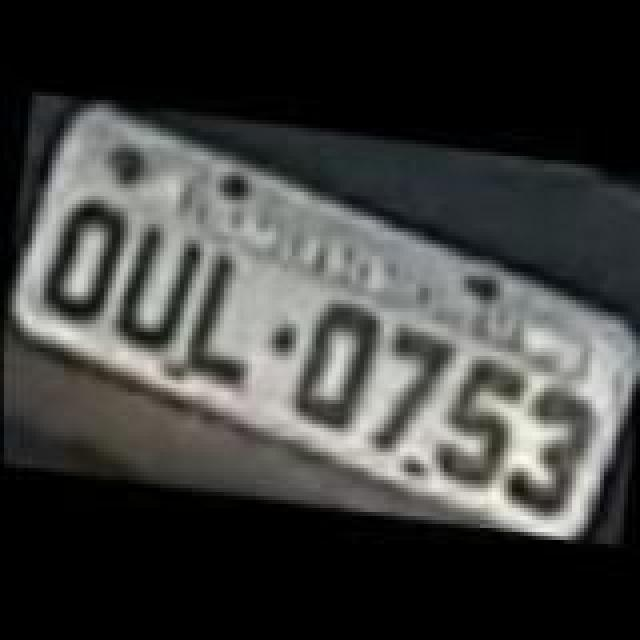3: (500, 372, 600, 516)
5: (426, 344, 522, 496)
7: (366, 320, 450, 468)
L: (174, 242, 262, 386)
O: (38, 184, 130, 328), (290, 290, 382, 434)
U: (108, 212, 204, 352)
